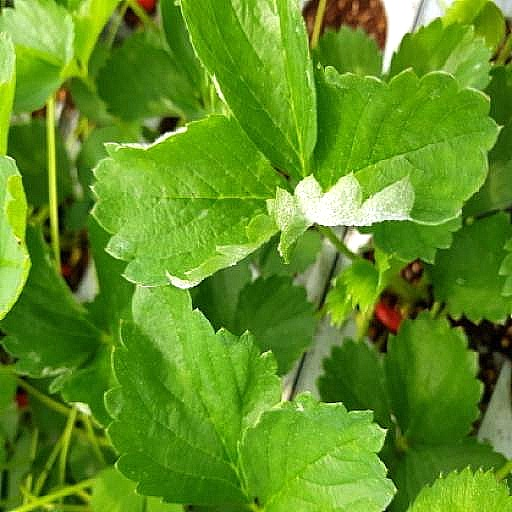Powdery Mildew Leaf: (275, 245, 502, 450), (86, 222, 291, 398), (180, 333, 318, 511), (387, 420, 495, 494)
